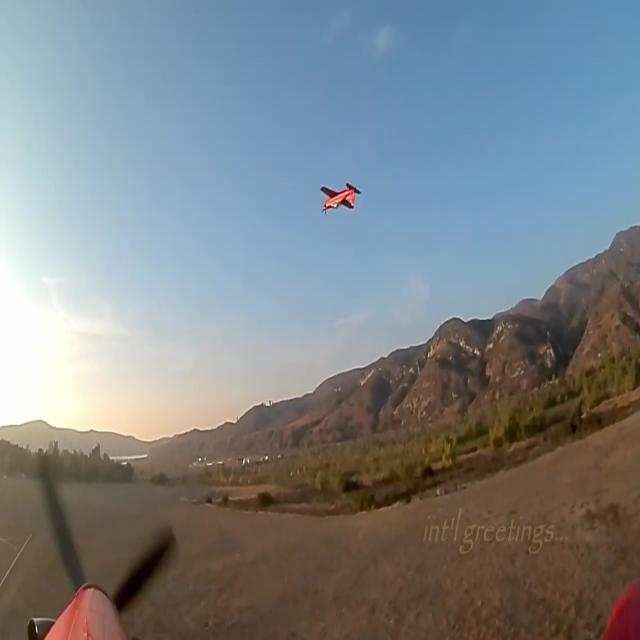iha: (320, 174, 362, 210)
